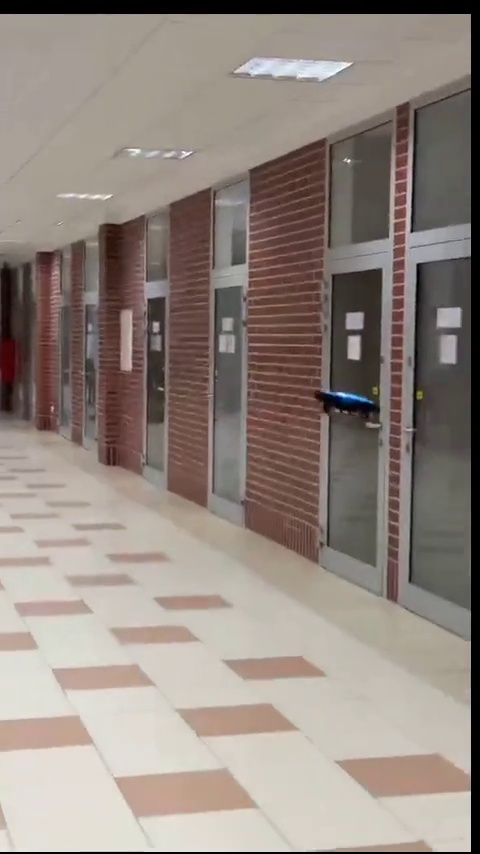drone: (315, 387, 375, 420)
